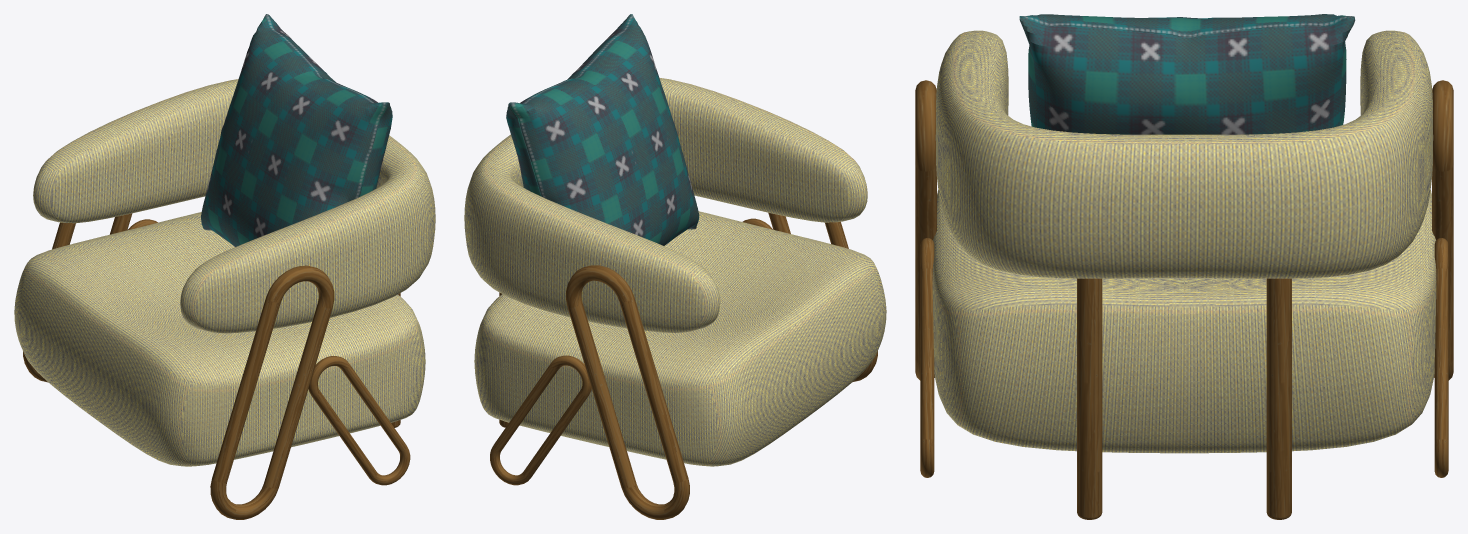
File: chair.glb
3 renders of one model, left to right at view 1: azimuth 30°, elevation 25°; view 2: azimuth 150°, elevation 25°; view 3: azimuth 270°, elevation 25°, orthographic. The views are drawn at different scales.
Visible parts, largest first — view 1: Cube, Plane, Plane.001, Torus, Torus.003; view 2: Cube, Plane, Plane.001, Torus, Torus.003; view 3: Plane, Cube, Plane.001, Cylinder, Torus, Torus.003.
Boxes of the visible parts, left/top/right/bottom form: Cube: left=14, top=212, right=425, bottom=466; Plane: left=33, top=79, right=435, bottom=333; Plane.001: left=201, top=14, right=392, bottom=246; Torus: left=23, top=213, right=334, bottom=519; Torus.003: left=127, top=219, right=410, bottom=485; Cube: left=474, top=211, right=886, bottom=466; Plane: left=464, top=77, right=867, bottom=332; Plane.001: left=506, top=14, right=699, bottom=245; Torus: left=566, top=212, right=877, bottom=519; Torus.003: left=490, top=218, right=772, bottom=485; Plane: left=935, top=30, right=1433, bottom=278; Cube: left=932, top=190, right=1436, bottom=453; Plane.001: left=1019, top=14, right=1355, bottom=134; Cylinder: left=1077, top=278, right=1291, bottom=519; Torus: left=915, top=80, right=1453, bottom=380; Torus.003: left=920, top=238, right=1448, bottom=477.
Bounding box in the file's own units: 0.9708 × 1.08 × 1.09.
Materials: 1 (1 with a texture image).
